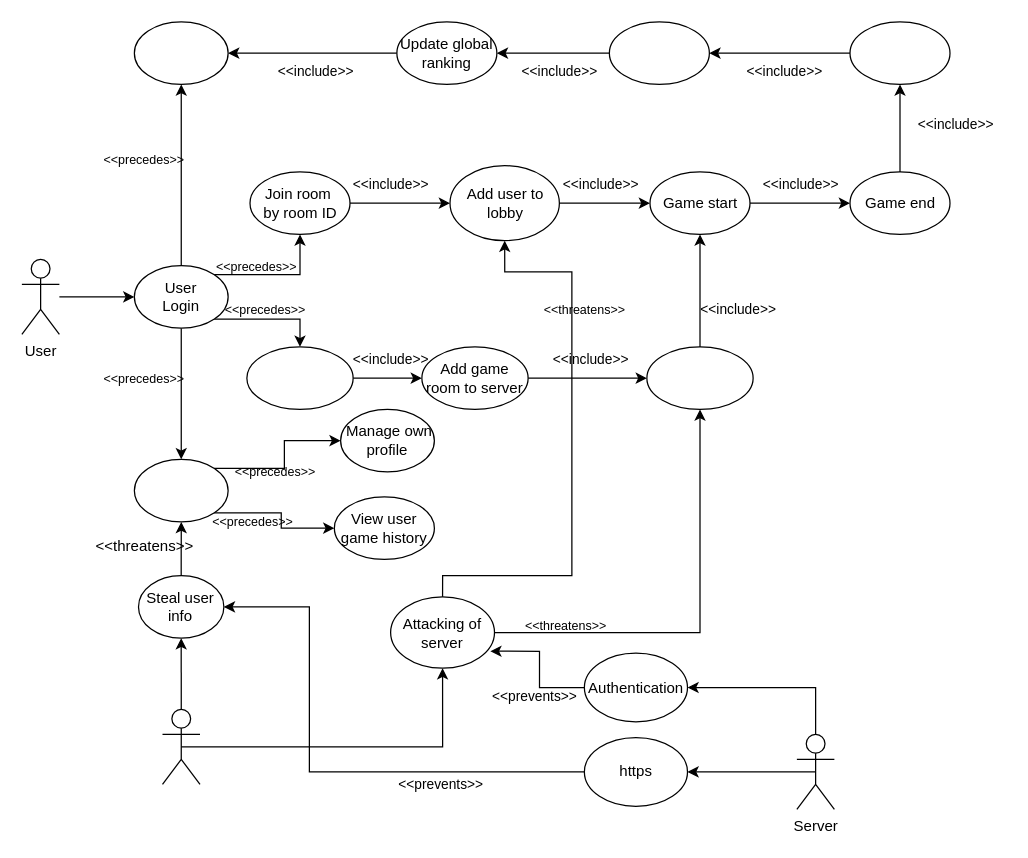
The diagram is 1028 pixels wide and 858 high, and some of its shapes have lost their labels. The shapes that lost their labels are listed below. From the top down, each one's box as (x1, y1, x2, y2) in pixels, then its label:
(133, 21, 228, 84): View ranking
(608, 21, 709, 84): Update respective users
(849, 21, 950, 84): Game data saved to server
(246, 346, 353, 409): Create room
(646, 346, 753, 409): Manage own lobby
(133, 458, 228, 522): User profile
(161, 708, 200, 784): Hacker
